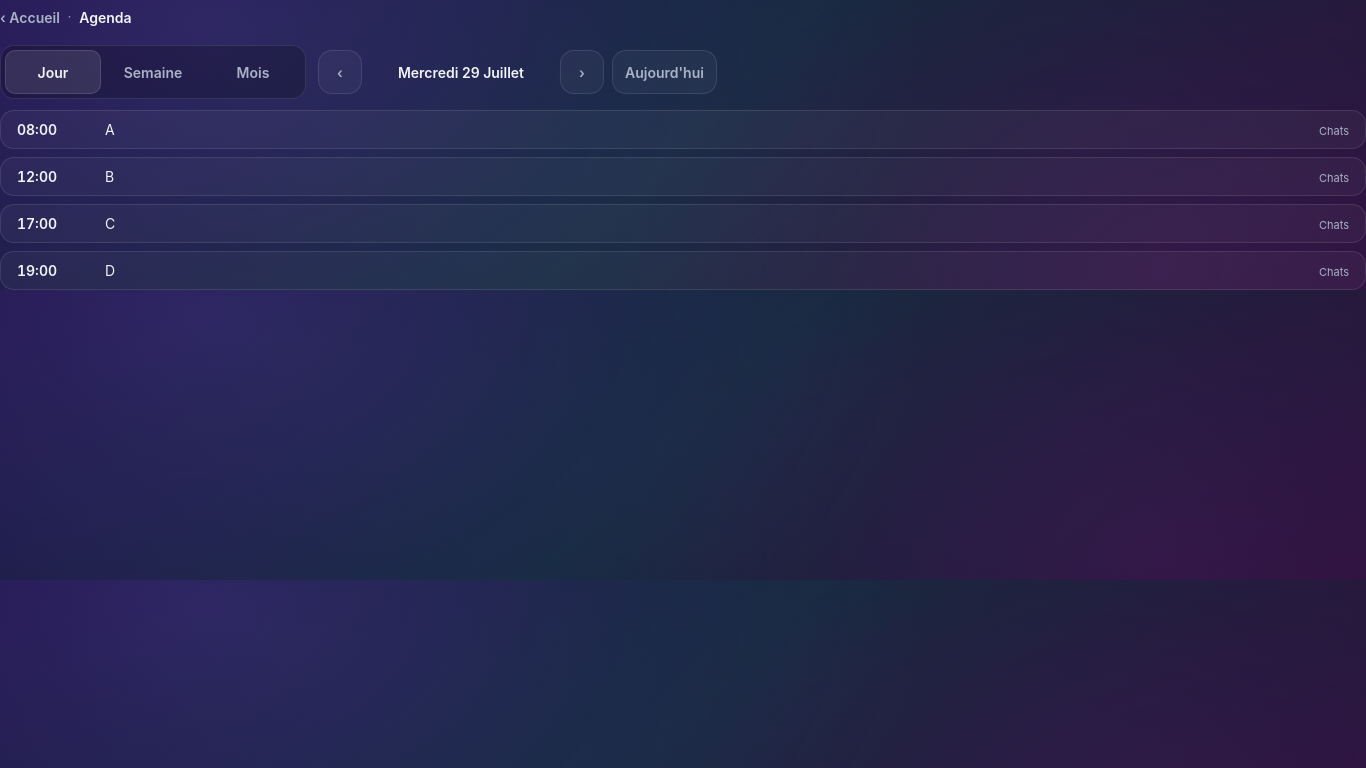
Test: AgendaDetail (Story 10.2) › vue Mois : plafonne à 2 pastilles et compte le reste
Click the tab "Mois": x=253, y=72 [205, 50, 301, 94]
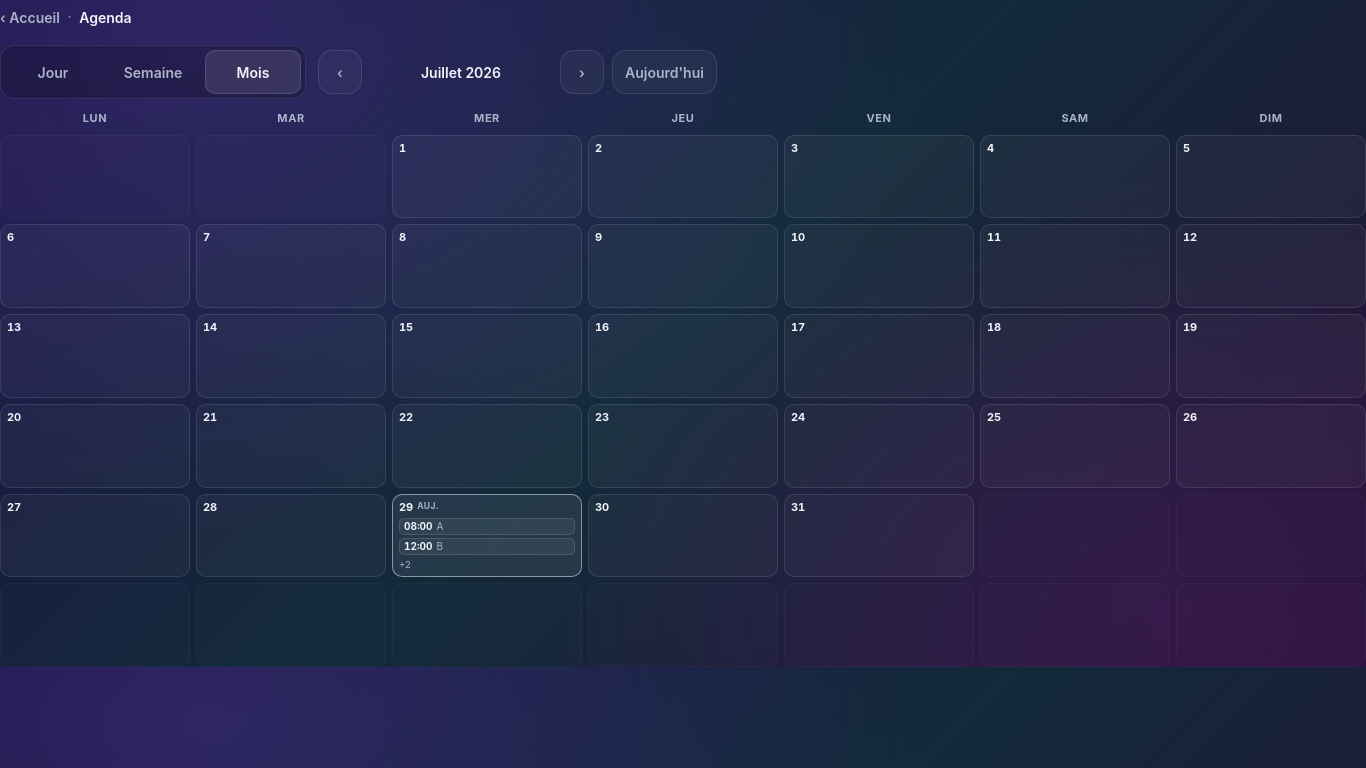
Expected: the text "+2" is shown, [399, 559, 411, 570]
